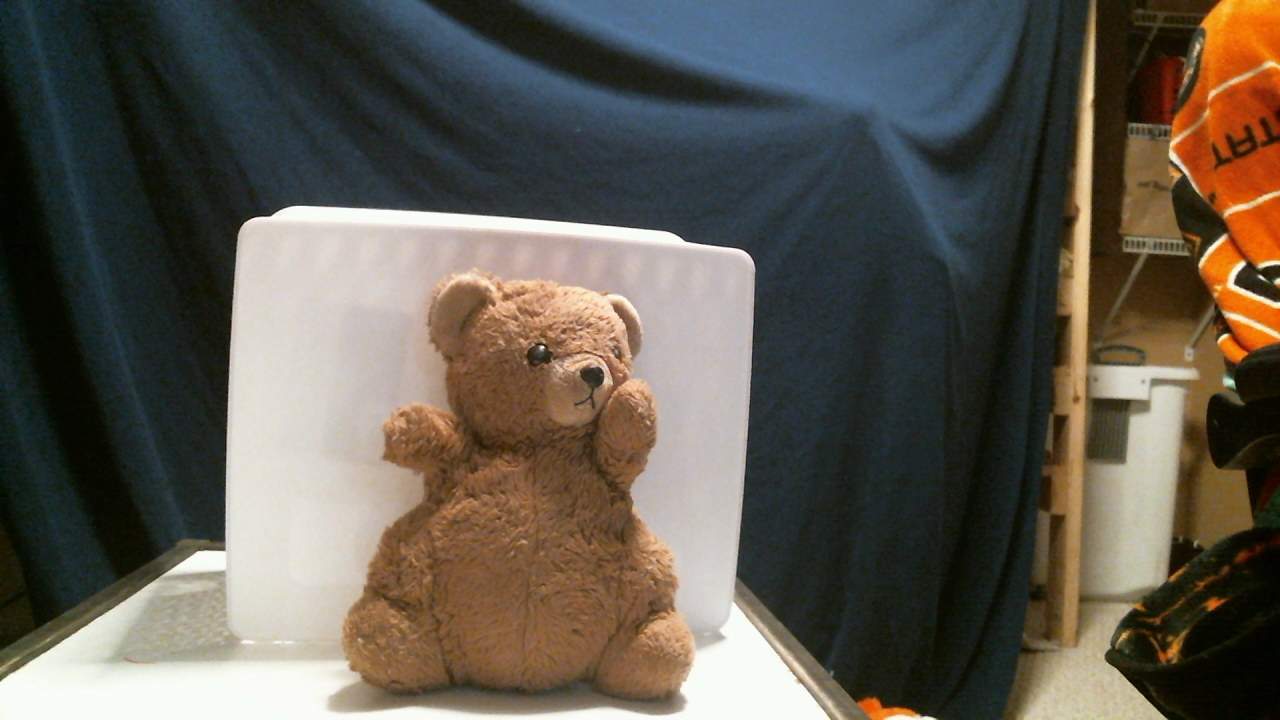Little_Mister_Bear: (519, 326, 639, 435)
